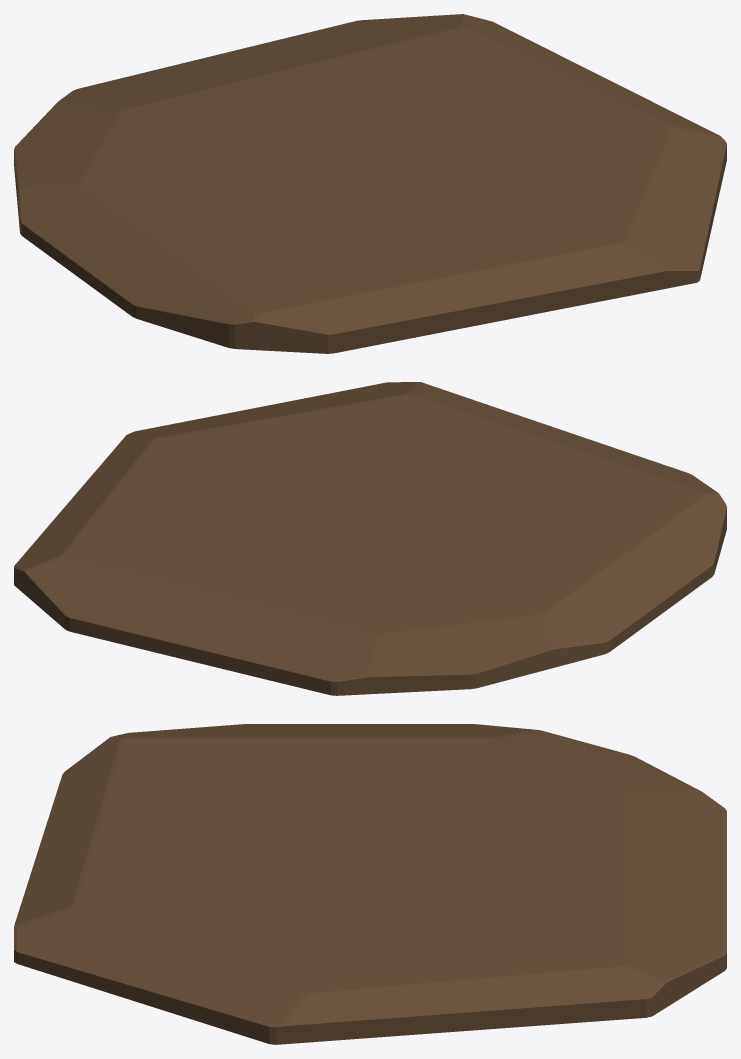
Rendered from Stone-3.fbx.
3 views of the same model, one above another, from view 1: azimuth 30°, elevation 25°; view 2: azimuth 150°, elevation 25°; view 3: azimuth 270°, elevation 25° (orthographic). The views are drawn at different scales.
Visible parts, largest first — view 1: Cube; view 2: Cube; view 3: Cube.
Part boxes in pixels (x1,y1,x2,y2): Cube: (14,14,726,353); Cube: (14,382,726,695); Cube: (14,724,726,1044).
Size of the model in its own units: 219 by 12.29 by 215.
